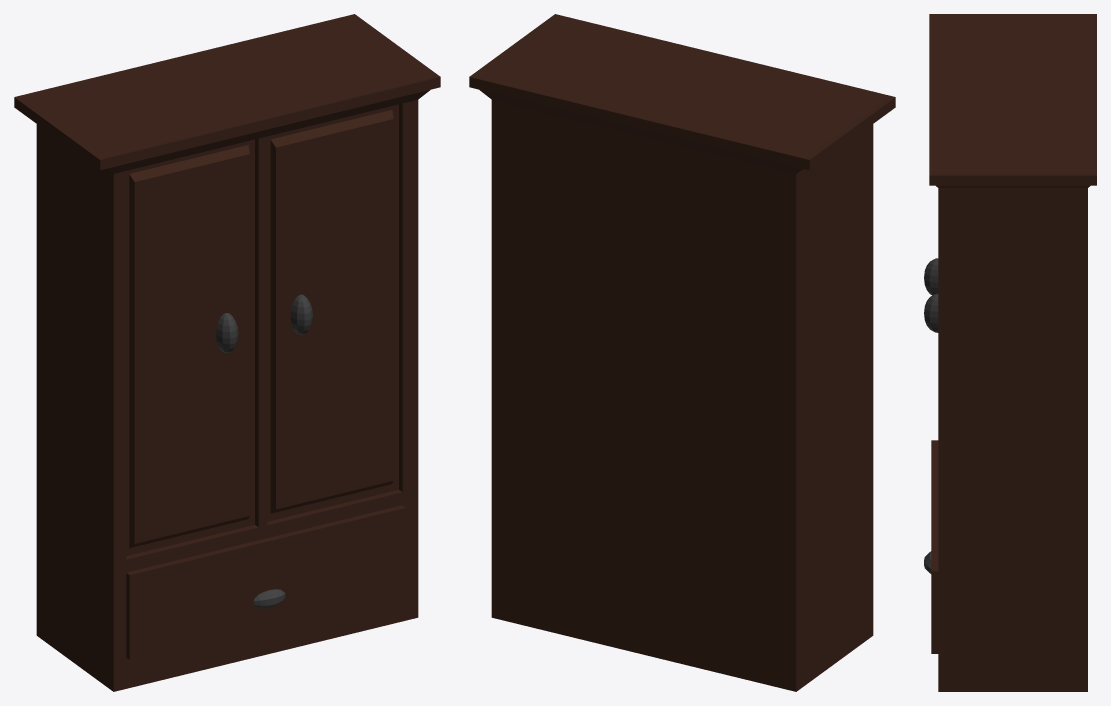
Rendered from Wardrobe.fbx.
3 views of the same model, side by side, from view 1: azimuth 30°, elevation 25°; view 2: azimuth 150°, elevation 25°; view 3: azimuth 270°, elevation 25° (orthographic). The views are drawn at different scales.
Parts seen in each view (by area): view 1: pCube2, pSphere2, pSphere1; view 2: pCube2; view 3: pCube2, pSphere2, pSphere1.
Boxes of the visible parts, x1,y1,x2,y2 form: pCube2: [14, 14, 440, 691]; pSphere2: [290, 294, 312, 334]; pSphere1: [216, 313, 238, 352]; pCube2: [469, 14, 895, 691]; pCube2: [929, 14, 1096, 691]; pSphere2: [924, 293, 938, 332]; pSphere1: [924, 258, 938, 295].
Bounding box in the file's own units: 0.8945 × 1.35 × 0.4038.
